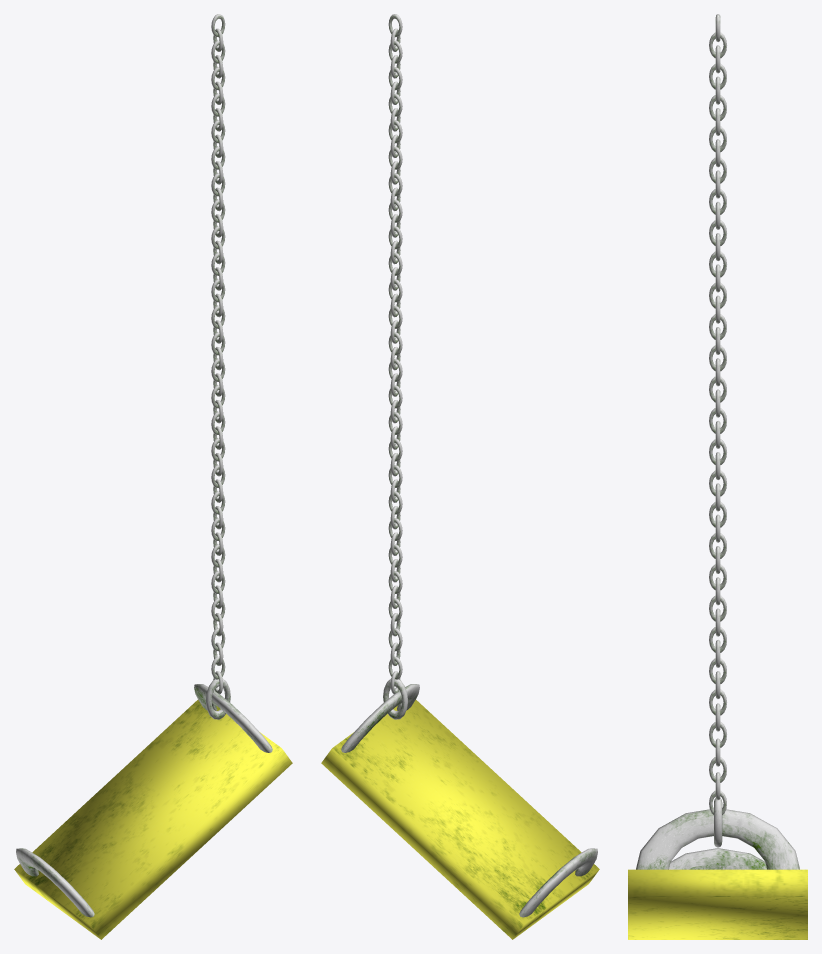
File: acento_balanca_TEXTURIZADA.fbx
3 renders of one model, left to right at view 1: azimuth 30°, elevation 25°; view 2: azimuth 150°, elevation 25°; view 3: azimuth 270°, elevation 25°, orthographic. The views are drawn at different scales.
Visible parts, largest first — view 1: Torus.002; view 2: Torus.002; view 3: Torus.002.
Boxes of the visible parts, x1,y1,x2,y2 form: Torus.002: (14, 14, 292, 939); Torus.002: (321, 14, 599, 939); Torus.002: (628, 14, 807, 939).
Bounding box in the file's own units: 61.37 × 227 × 36.43.
Materials: 1 (1 with a texture image).
